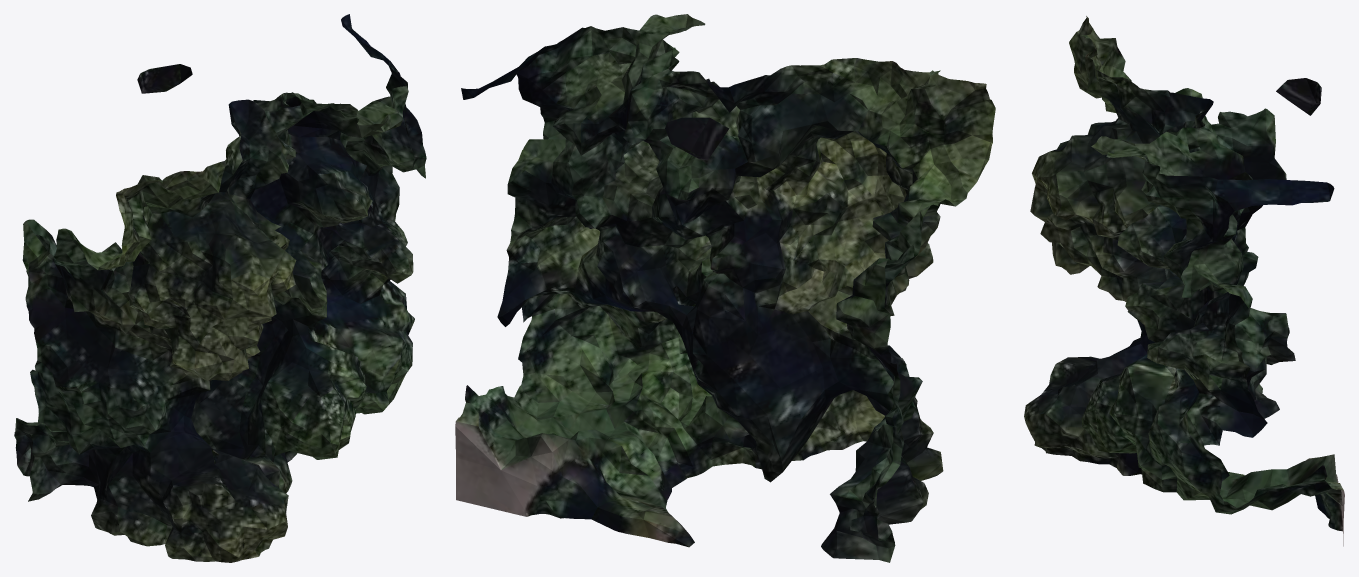
File: Tile_+031_+024_L19_000231.obj
3 renders of one model, left to right at view 1: azimuth 30°, elevation 25°; view 2: azimuth 150°, elevation 25°; view 3: azimuth 270°, elevation 25°, orthographic. The views are drawn at different scales.
Bounding box in the file's own units: 31.75 × 31.75 × 24.66.
Materials: 1 (1 with a texture image).
